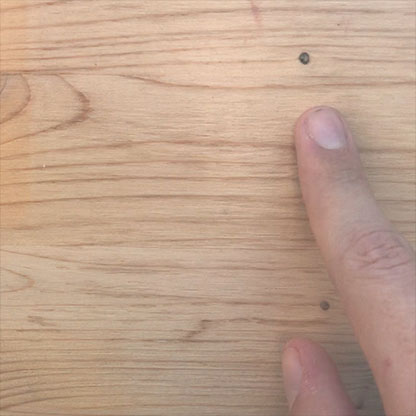fingertip: (291, 95, 367, 169)
